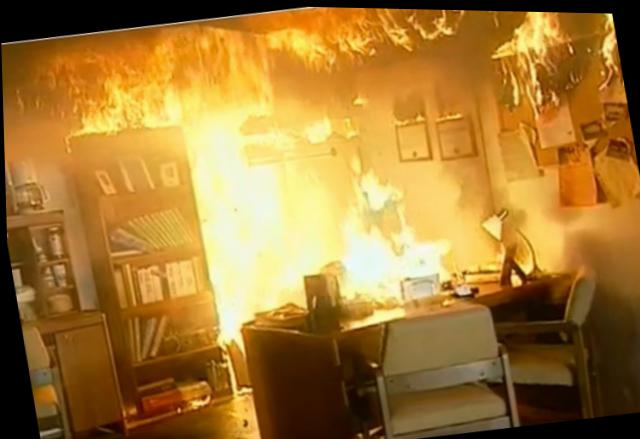fire: (41, 1, 527, 370), (488, 8, 575, 118), (585, 10, 622, 79)
